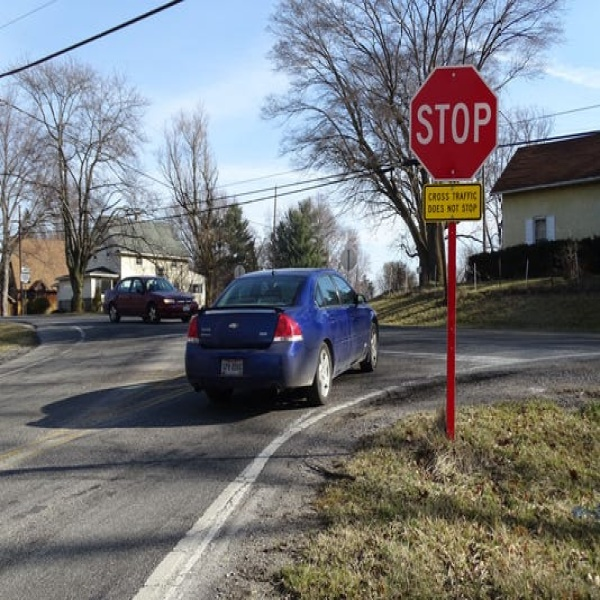stop: (414, 66, 497, 182)
